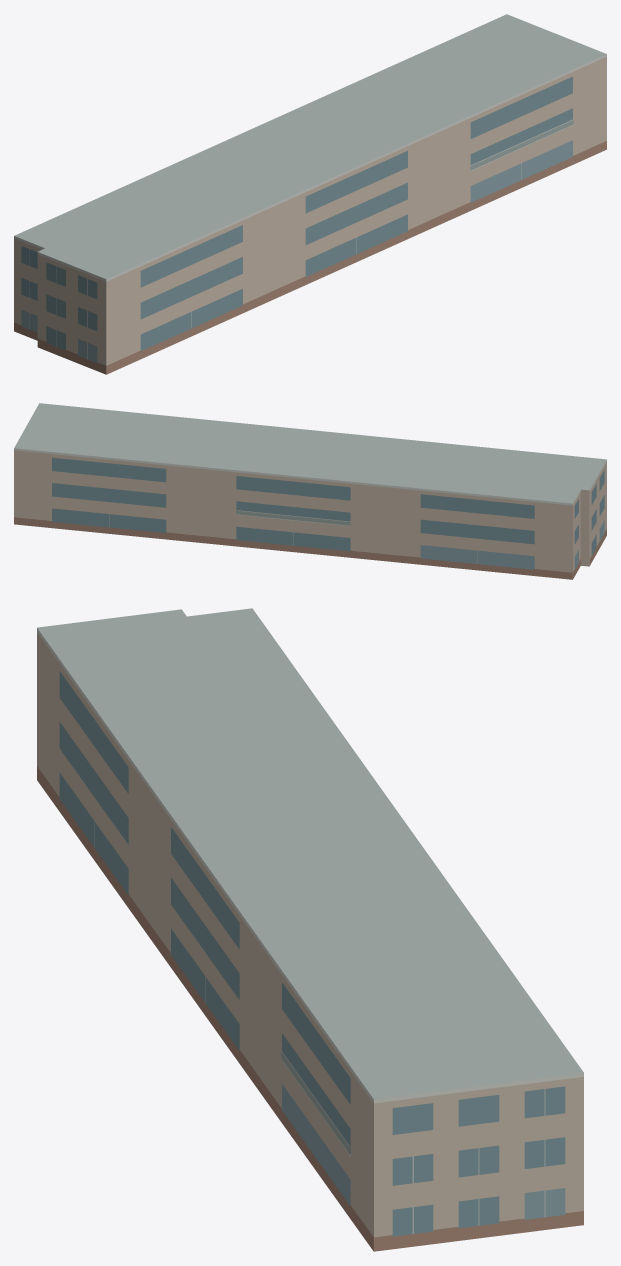
Rendered from survey-upis-32813359.glb.
3 views of the same model, one above another, from view 1: azimuth 30°, elevation 25°; view 2: azimuth 150°, elevation 25°; view 3: azimuth 270°, elevation 25° (orthographic). The views are drawn at different scales.
Visible parts, largest first — view 1: survey-upis-32813359.tmp; view 2: survey-upis-32813359.tmp; view 3: survey-upis-32813359.tmp.
Part boxes in pixels (x1,y1,x2,y2): survey-upis-32813359.tmp: [14, 14, 606, 374]; survey-upis-32813359.tmp: [14, 403, 606, 579]; survey-upis-32813359.tmp: [37, 608, 583, 1251].
Bounding box in the file's own units: 63.27 × 9.15 × 29.79.
